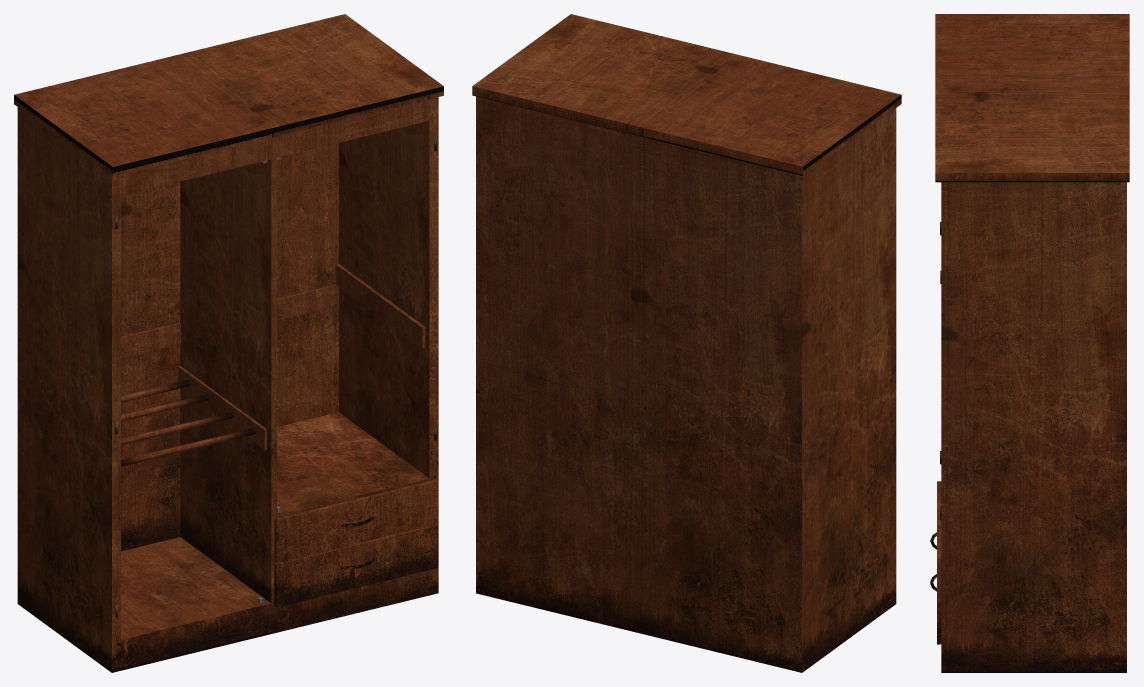
File: closetCarcass02_a.FBX
3 renders of one model, left to right at view 1: azimuth 30°, elevation 25°; view 2: azimuth 150°, elevation 25°; view 3: azimuth 270°, elevation 25°, orthographic.
Visible parts, largest first — view 1: SM_ClosetCarcass02; view 2: SM_ClosetCarcass02; view 3: SM_ClosetCarcass02.
Boxes of the visible parts, <box> form: SM_ClosetCarcass02: <box>14,14,443,672</box>; SM_ClosetCarcass02: <box>472,14,901,672</box>; SM_ClosetCarcass02: <box>930,14,1129,672</box>.
Bounding box in the file's own units: 137 × 201 × 72.69.
1 material, 1 textured.
